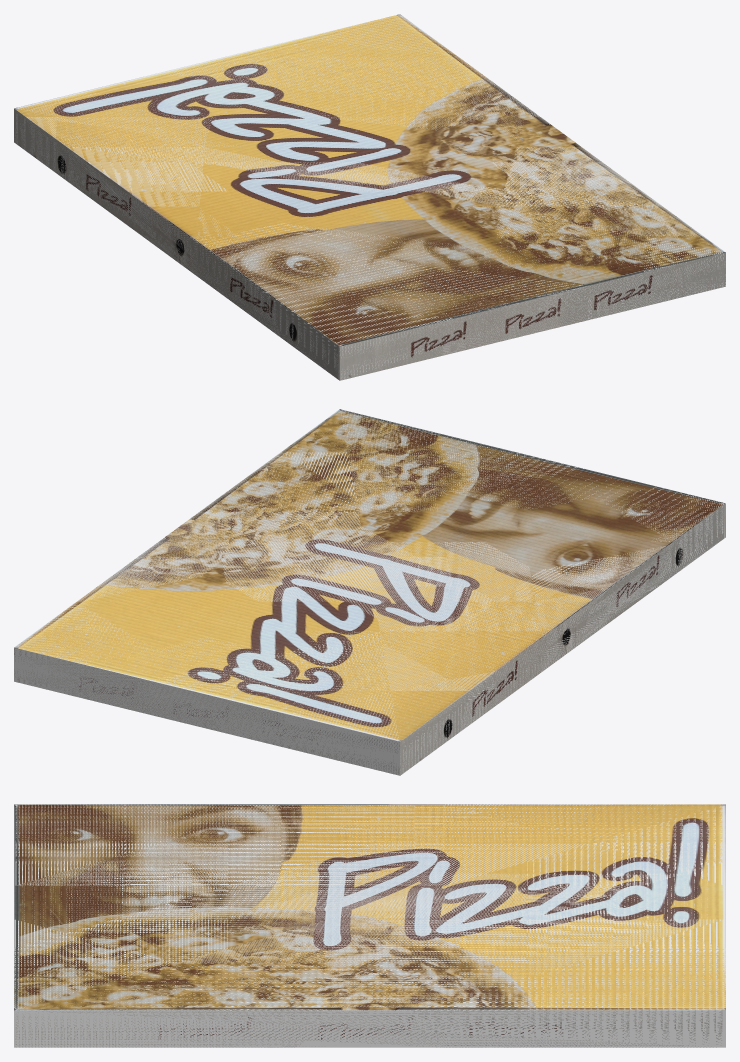
Rendered from pizza_box.dae.
3 views of the same model, one above another, from view 1: azimuth 30°, elevation 25°; view 2: azimuth 150°, elevation 25°; view 3: azimuth 270°, elevation 25° (orthographic). The views are drawn at different scales.
Visible parts, largest first — view 1: SketchUp (×3); view 2: SketchUp (×3); view 3: SketchUp (×2).
Part boxes in pixels (x1,y1,x2,y2): SketchUp (×3): [14, 14, 725, 380]; SketchUp (×3): [14, 409, 725, 775]; SketchUp (×2): [14, 804, 725, 1047].
Bounding box in the file's own units: 0.4103 × 0.5995 × 0.0346.
7 materials, 6 textured.
